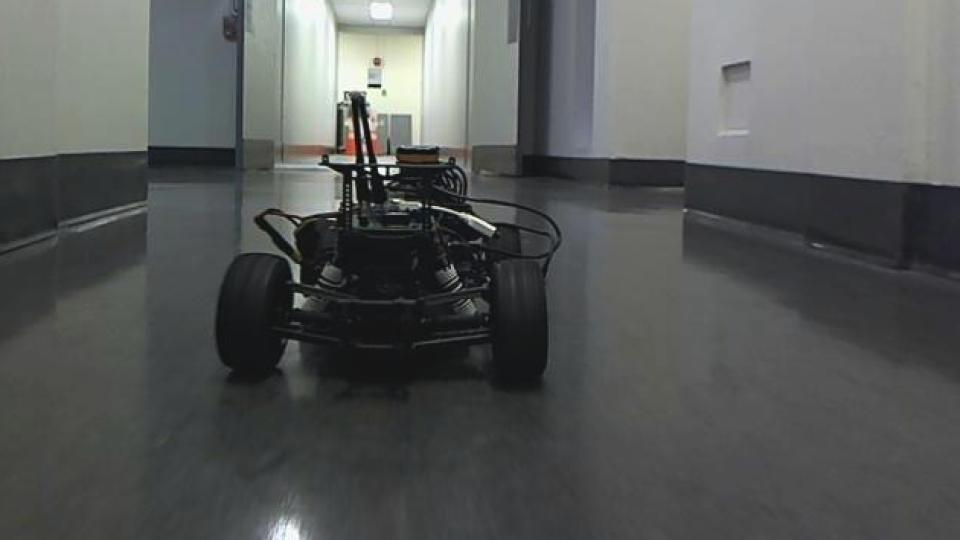car: (212, 148, 565, 386)
